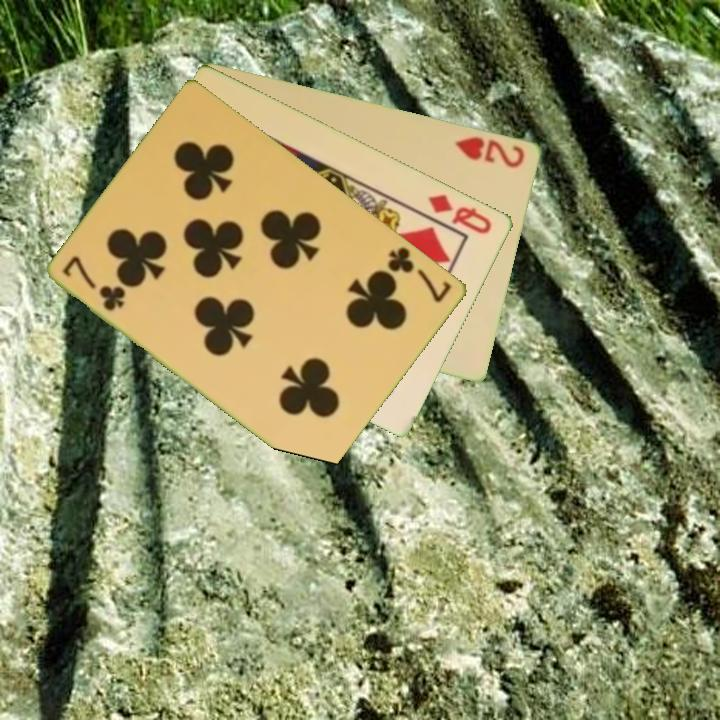2h: (452, 132, 528, 171)
7c: (384, 243, 455, 306), (59, 252, 130, 314)
Qd: (424, 190, 495, 237)
